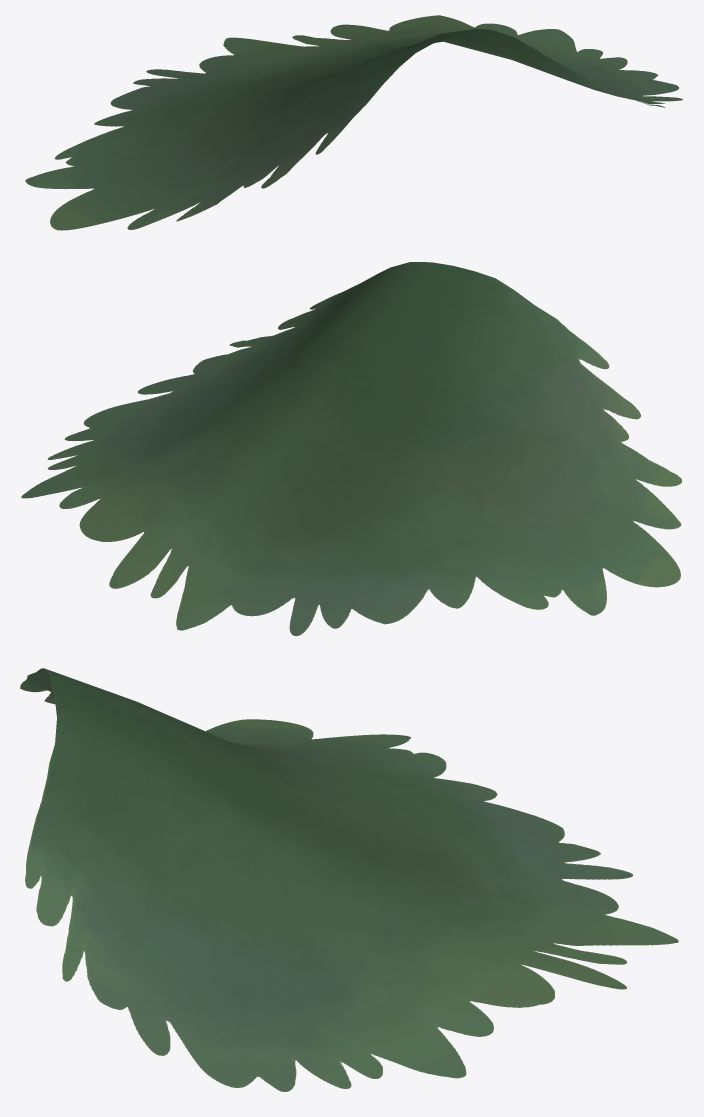
The model's file is branch E.FBX.
The picture shows the model from 3 angles, top to bottom: view 1: azimuth 30°, elevation 25°; view 2: azimuth 150°, elevation 25°; view 3: azimuth 270°, elevation 25°; orthographic projection. The views are drawn at different scales.
Parts seen in each view (by area): view 1: branch E; view 2: branch E; view 3: branch E.
Part boxes in pixels (x1,y1,x2,y2): branch E: (25,15,682,230); branch E: (21,262,681,636); branch E: (20,668,678,1091).
Bounding box in the file's own units: 551 × 160 × 407.
